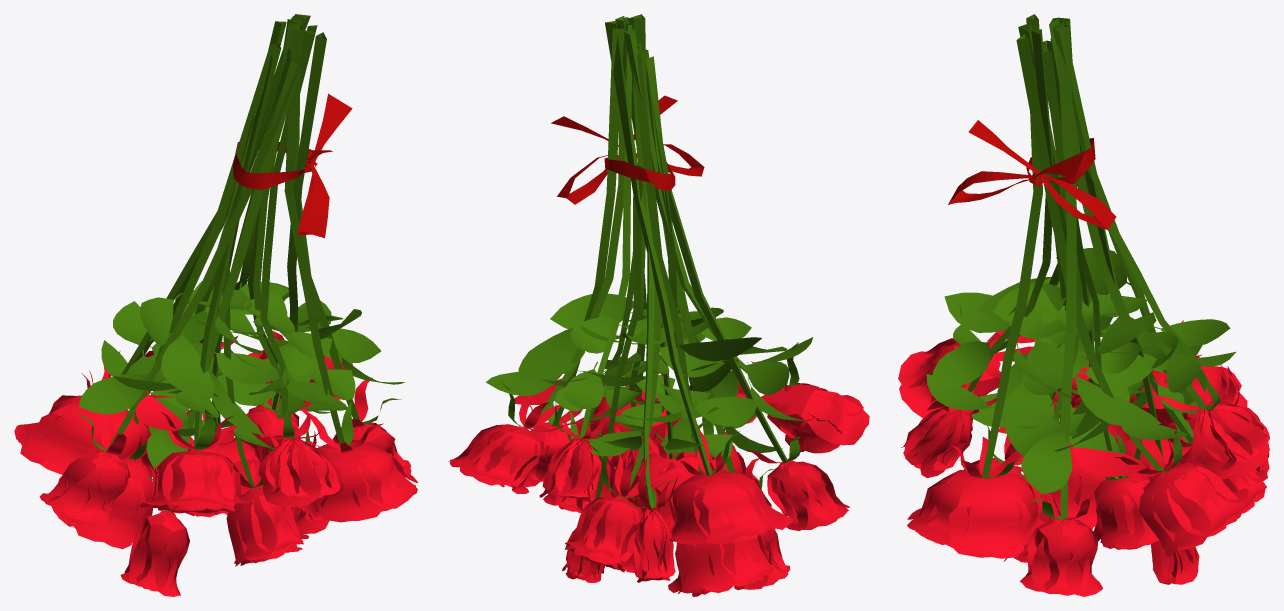
Rendered from CVETY_V2.FBX.
3 views of the same model, side by side, from view 1: azimuth 30°, elevation 25°; view 2: azimuth 150°, elevation 25°; view 3: azimuth 270°, elevation 25° (orthographic). The views are drawn at different scales.
Visible parts, largest first — view 1: rouse; view 2: rouse; view 3: rouse.
Boxes of the visible parts, box(x1,y1,x2,y2) form: rouse: box(14, 14, 417, 596); rouse: box(448, 14, 869, 596); rouse: box(898, 14, 1269, 596).
Bounding box in the file's own units: 0.00238 × 0.0035 × 0.00201.
